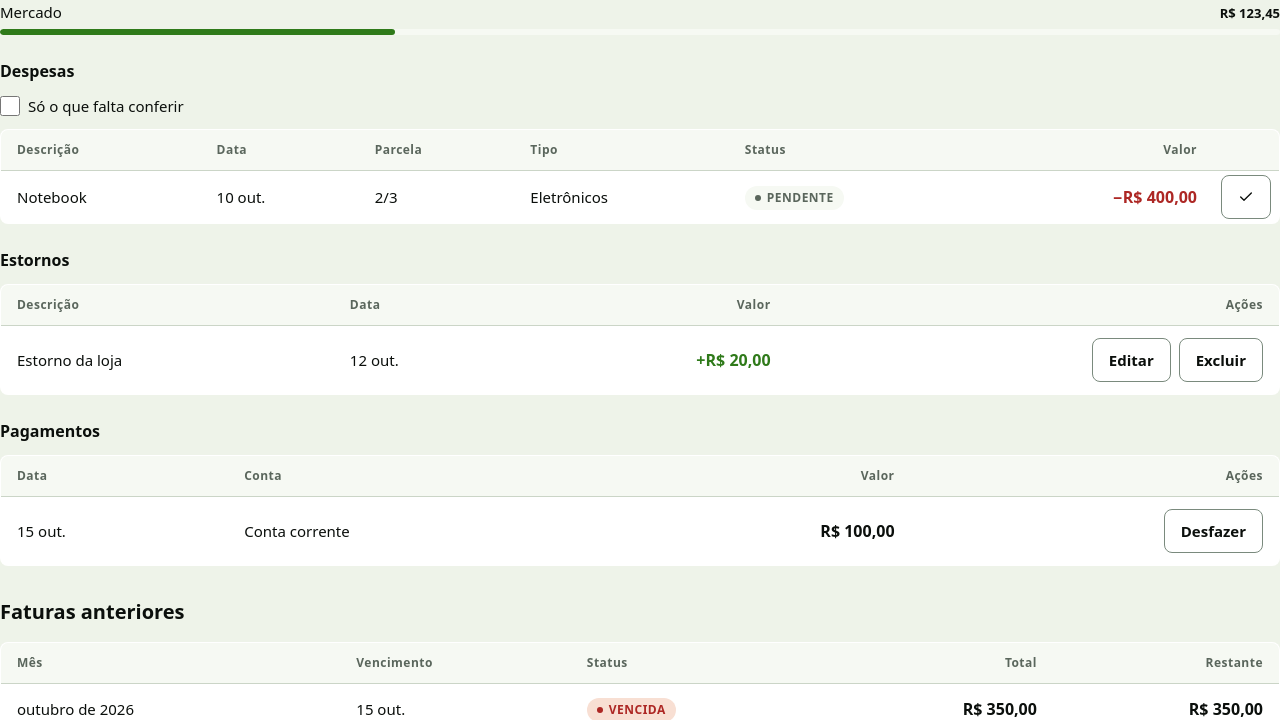
refund actions (spec 0013) › deletes after confirming and keeps the alert in the dialog on STATEMENT_CLOSED
(page scrolled)
Click the button "Excluir" at [1221, 360], box [1179,338,1263,382]
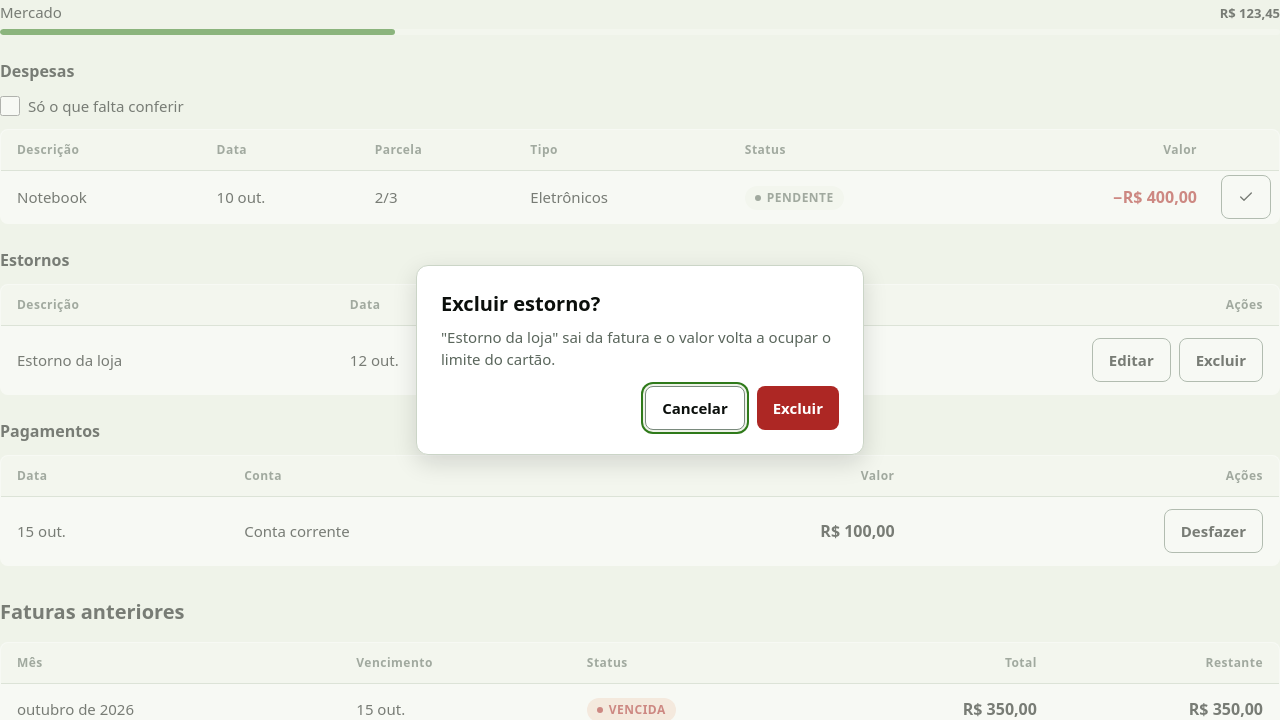
Click the button "Excluir" at [798, 408], box [757,386,839,430]
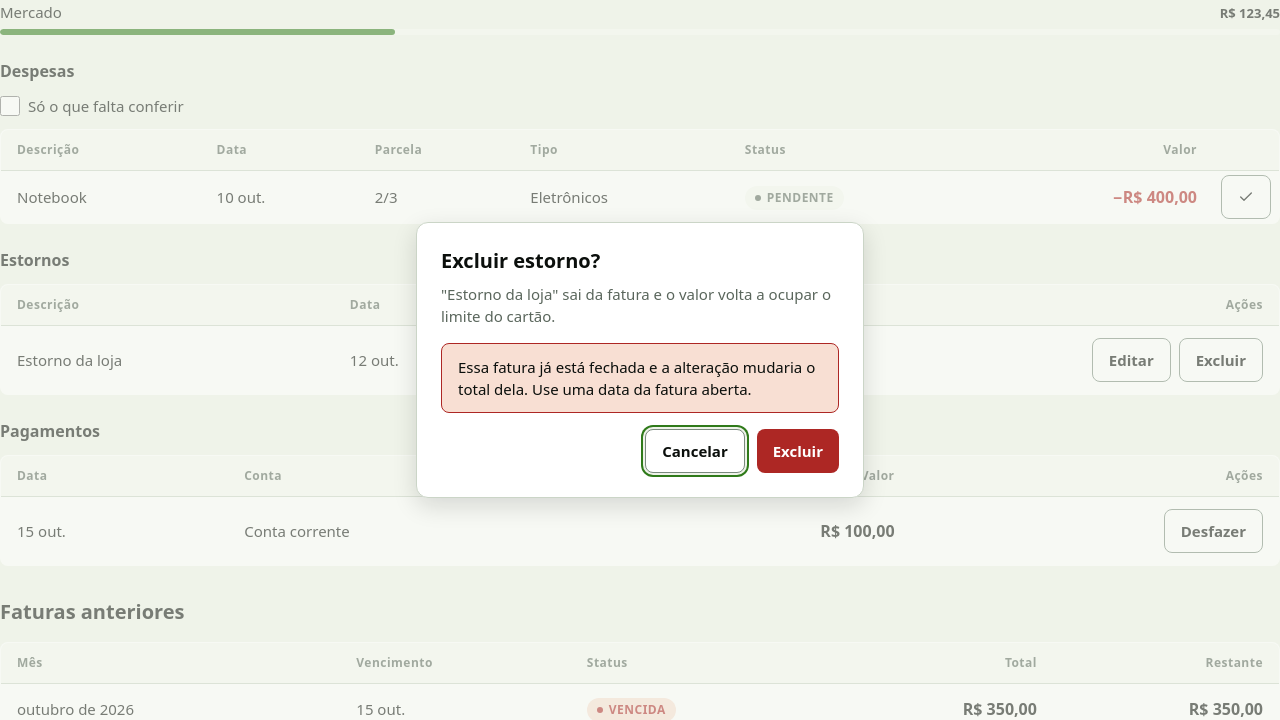
Expected: the message is shown, [441,343,839,413]
Click the button "Excluir" at [798, 451], box [757,429,839,473]
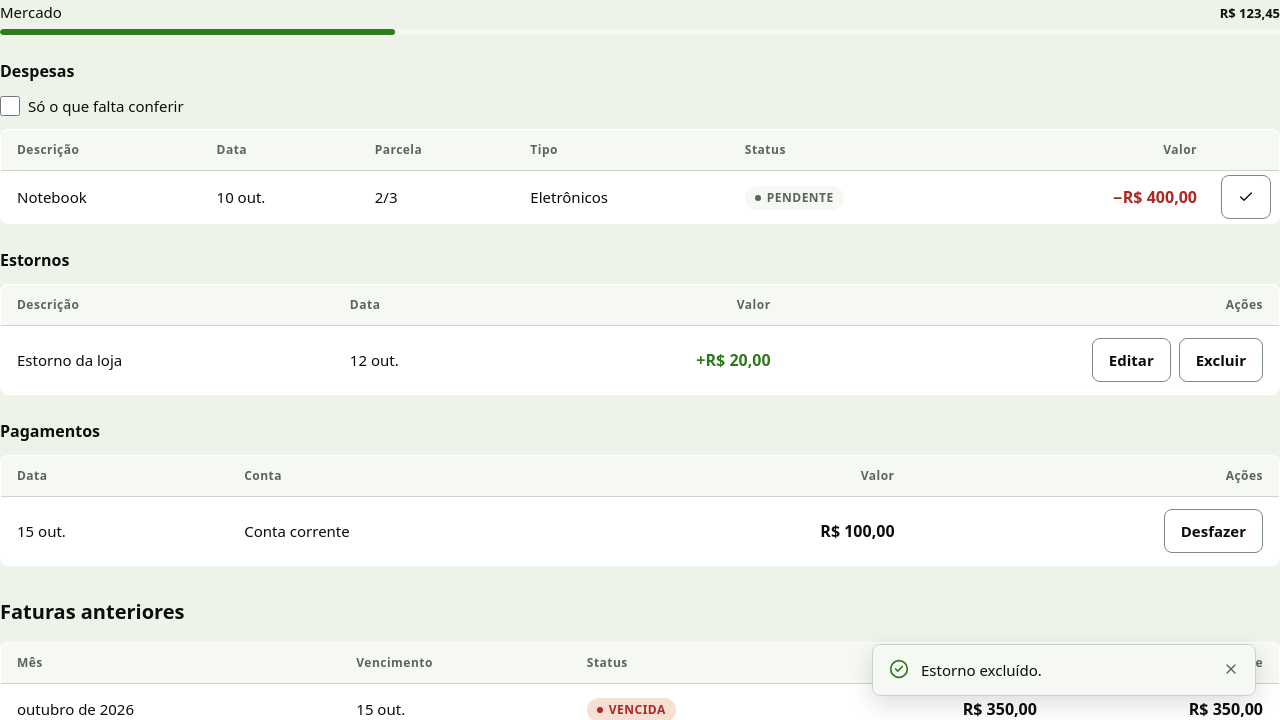
Expected: the dialog is gone
Expected: the text "Estorno excluído." is shown, [921,660,1042,680]
